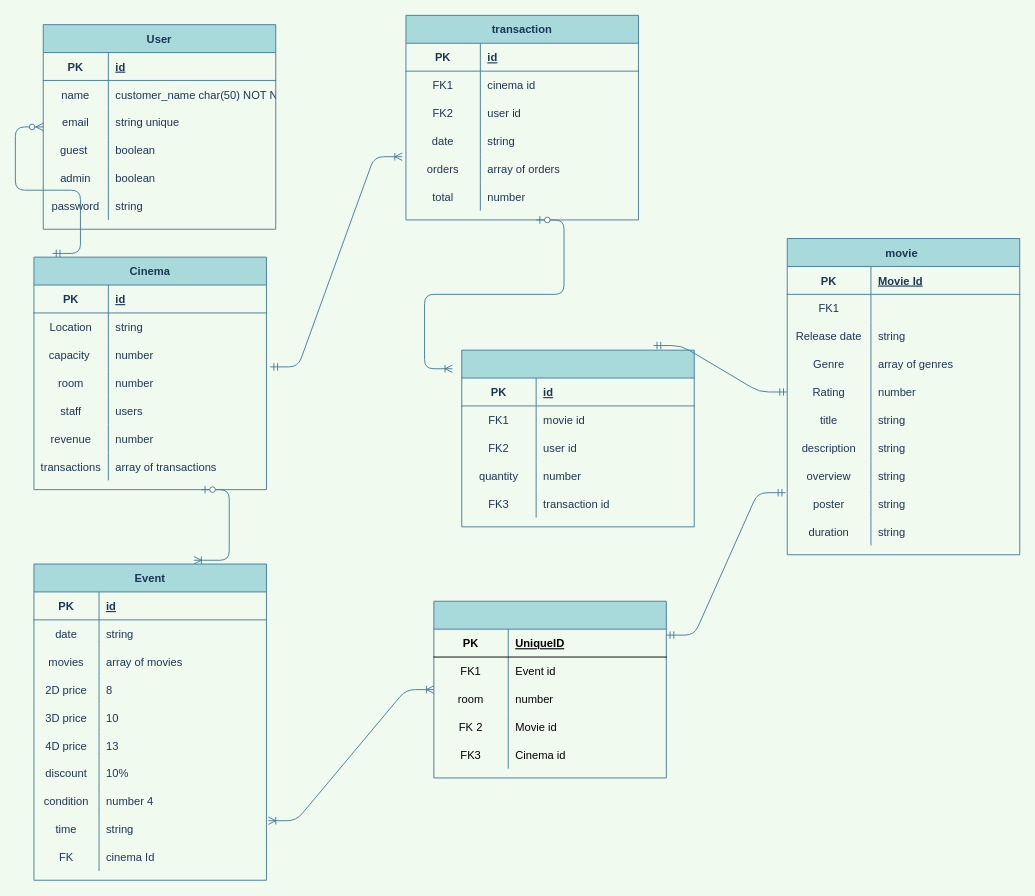
The diagram is 1035 pixels wide and 896 high, and some of its shapes have lost their labels. Here are the shapes that lost their labels. From the top down, the box of each, then its label:
(461, 349, 694, 527): order
(433, 600, 666, 778): Agenda
